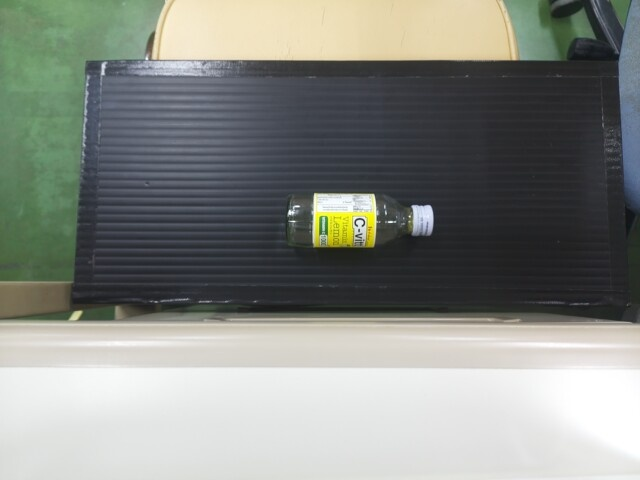glass_bottle: (286, 189, 432, 253)
